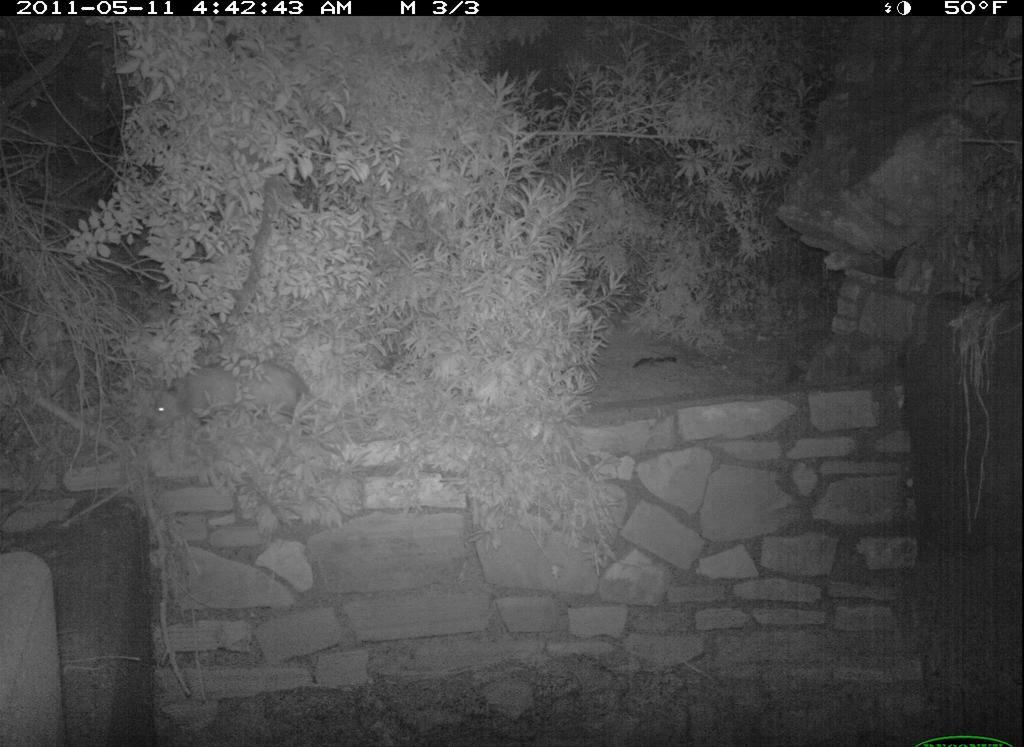opossum: (145, 354, 383, 440)
